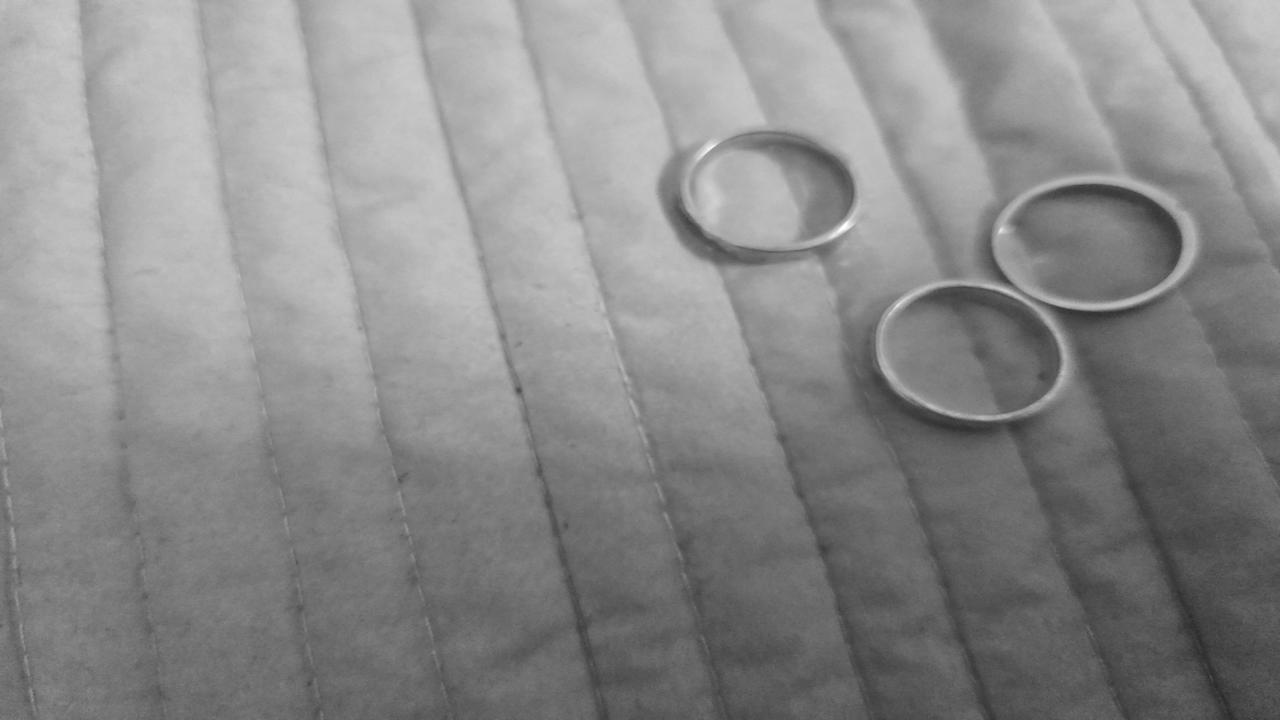ring: (989, 172, 1203, 312), (870, 280, 1073, 425), (678, 126, 865, 258)
